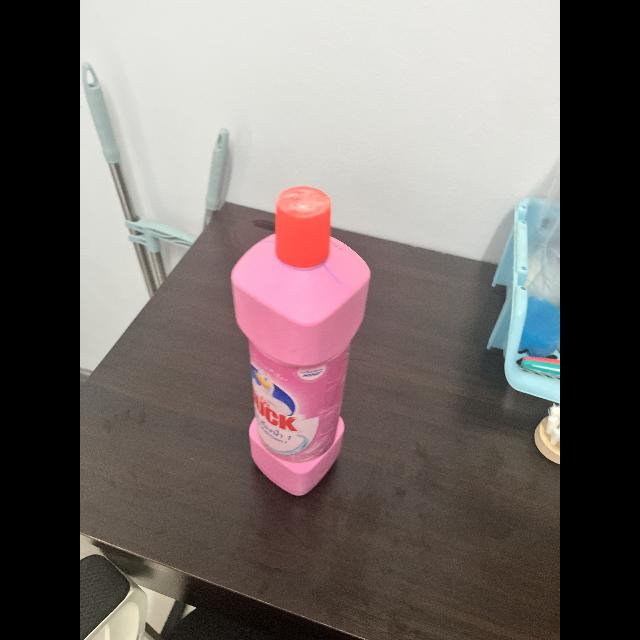chemical_plastic_bottle: (226, 180, 380, 500)
